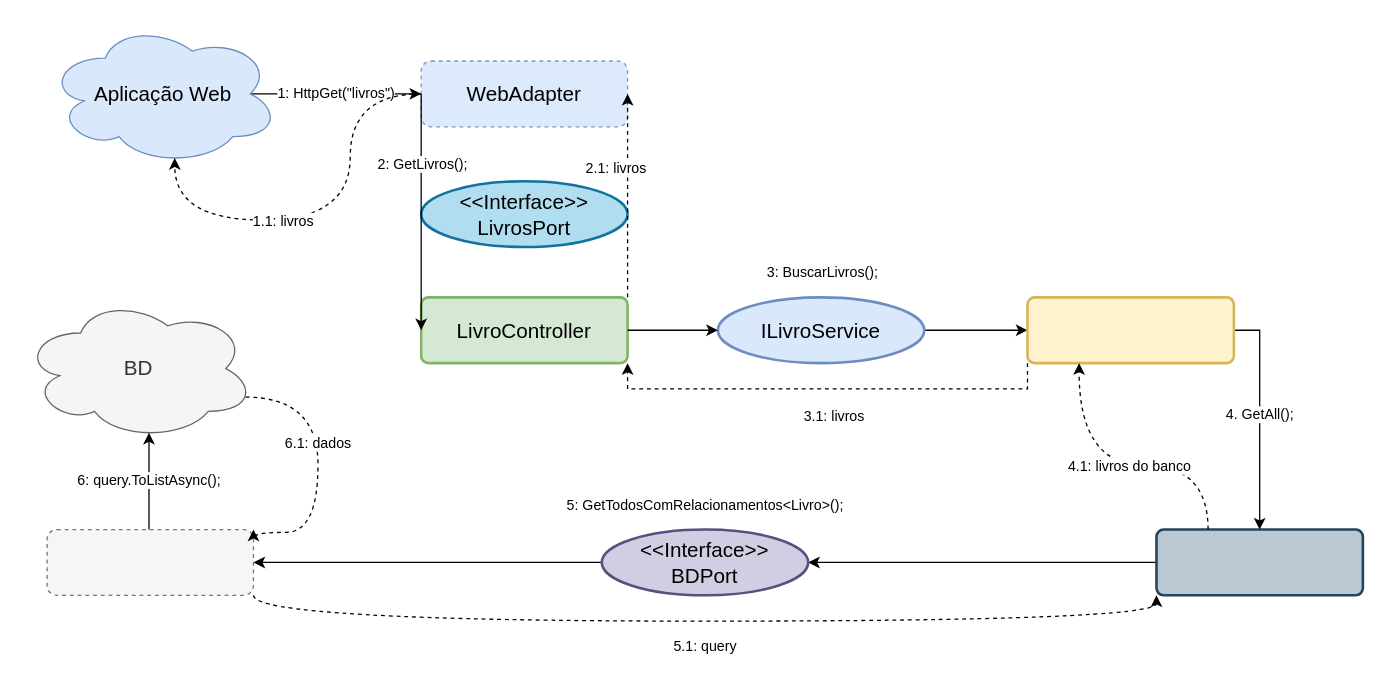
This 1387x677 diagram has some shape labels left out. The centre of each missing label's shape, as x and y in pixels:
"BDAdapter" belongs at point 149,561.
"LivroService" belongs at point 1130,329.
"LivrosRepository" belongs at point 1259,562.
